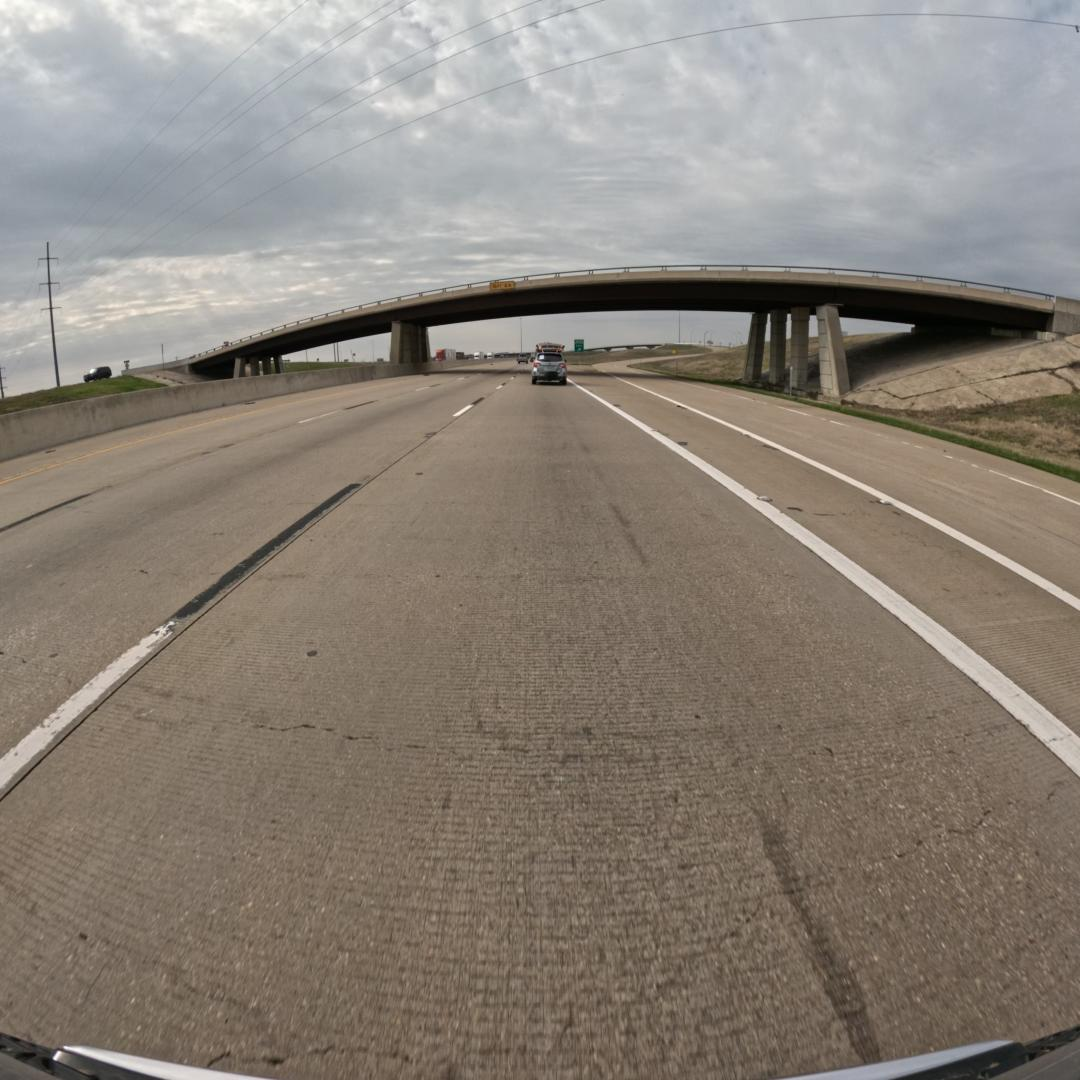lane0: (0, 379, 1080, 1077)
lane1: (0, 375, 504, 793)
